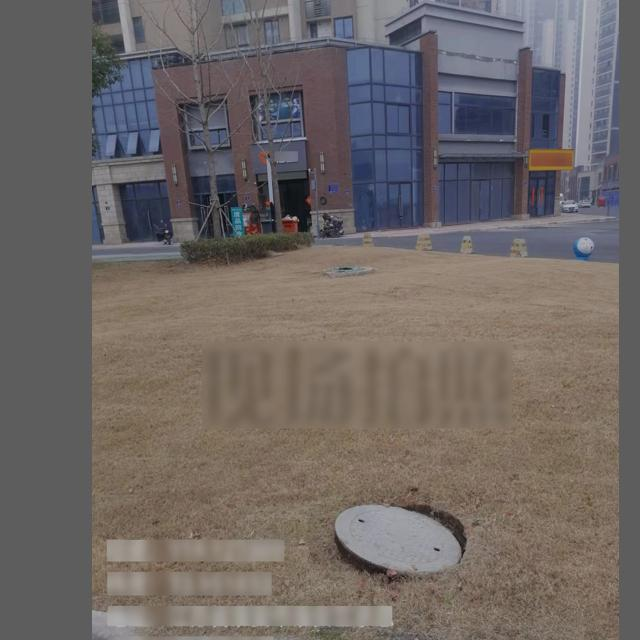uncovered: (333, 502, 466, 575)
